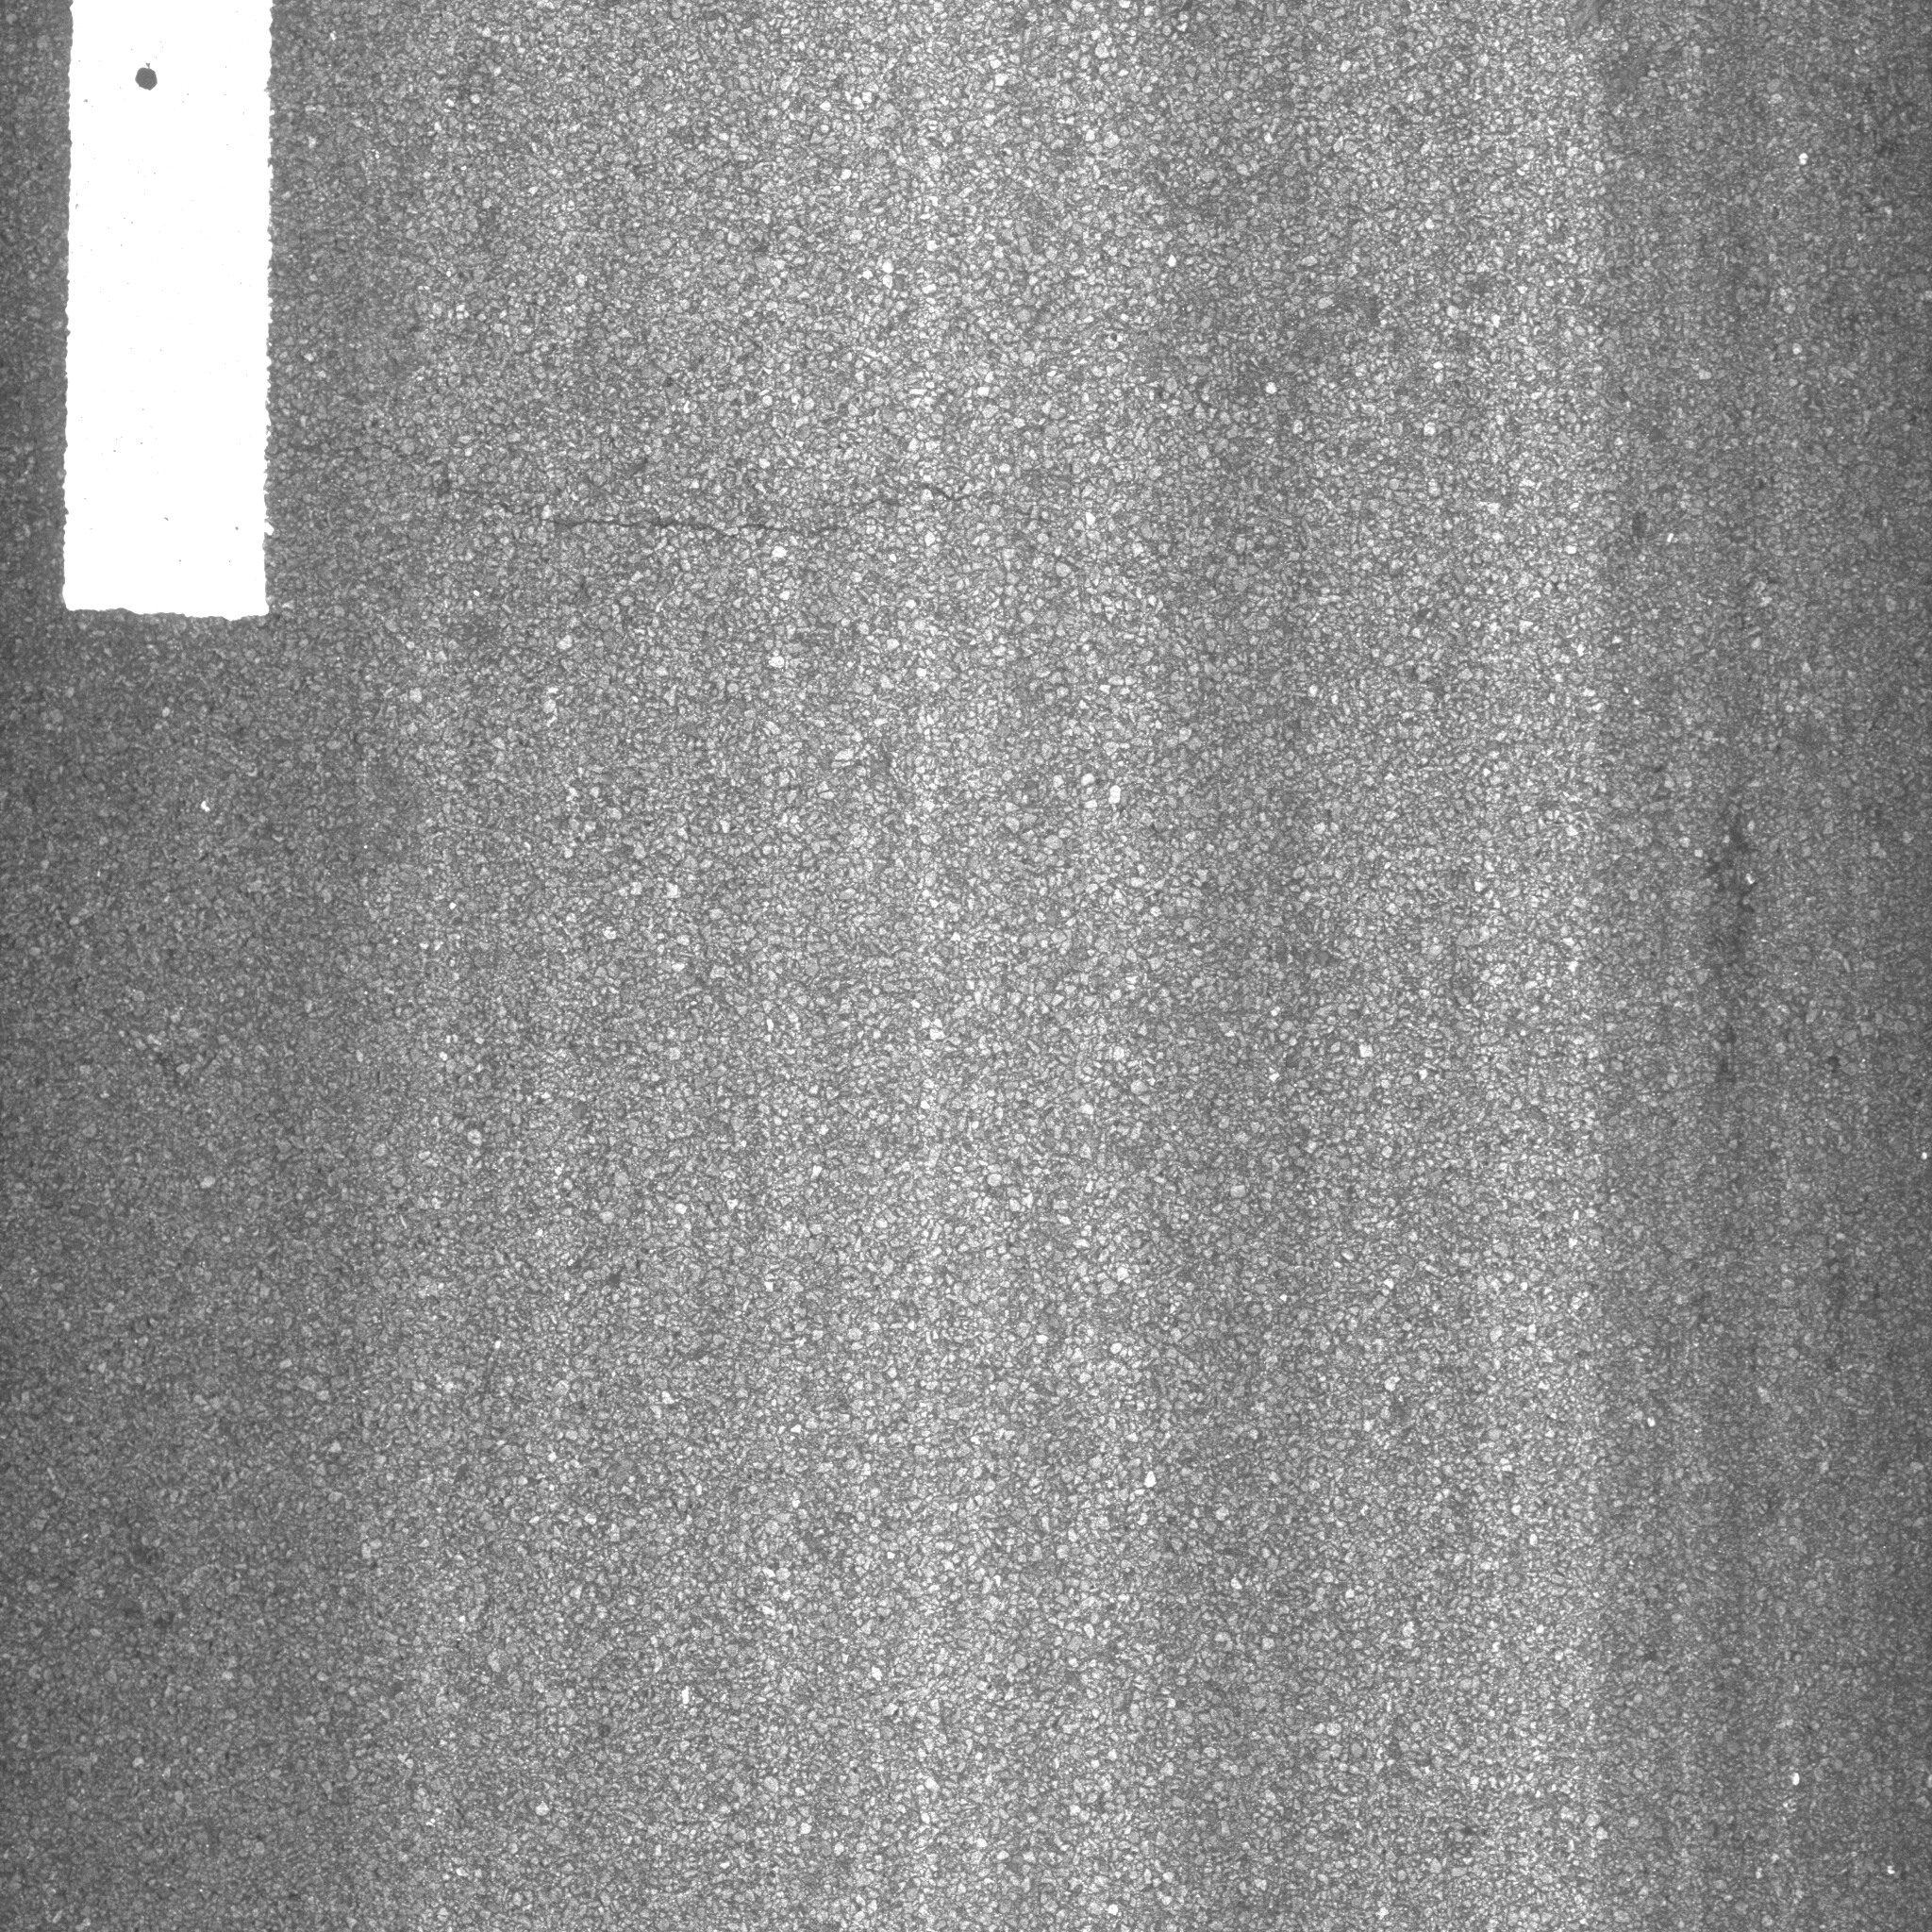transverse: (357, 430, 961, 586)
